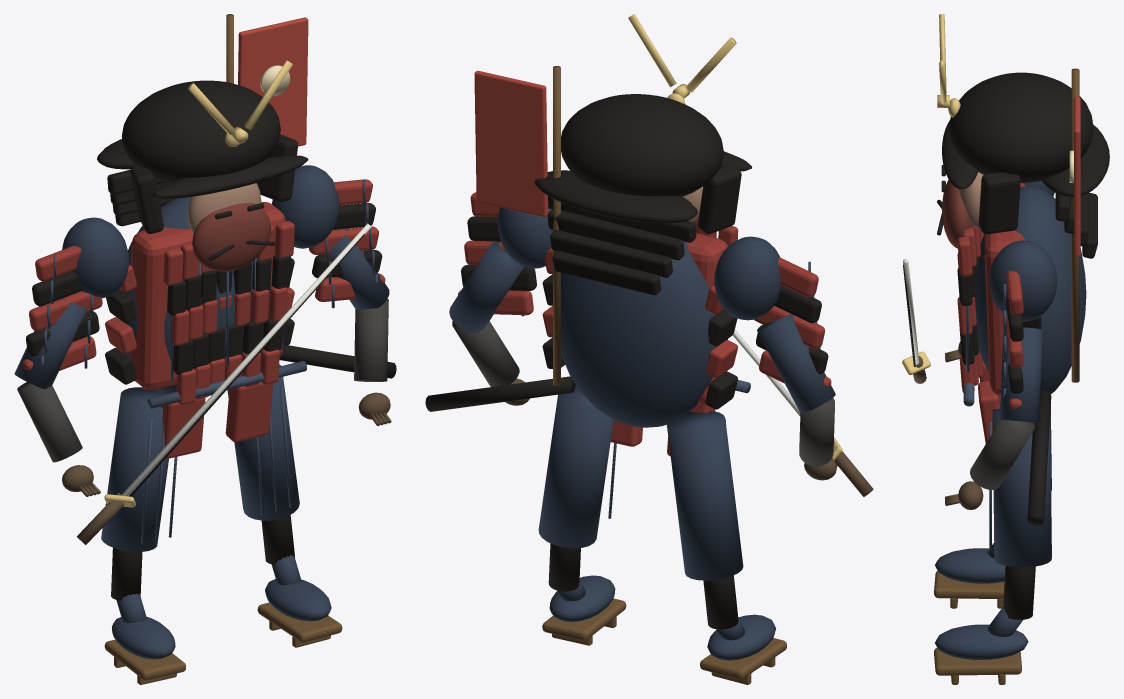
The model's file is samurai_character_v5.glb.
The picture shows the model from 3 angles, left to right: view 1: azimuth 30°, elevation 25°; view 2: azimuth 150°, elevation 25°; view 3: azimuth 270°, elevation 25°; orthographic projection. The views are drawn at different scales.
Parts seen in each view (by area): view 1: kabuto_helmet_bowl, left_hakama_outer_fold, do_cuirass_core, small_back_sashimono_cloth, right_hakama_outer_fold, mempo_cheek_mask, left_rounded_shoulder_undercloth, right_rounded_shoulder_undercloth, left_forearm_kote, helmet_front_brim, right_forearm_kote, left_upper_arm_cloth (+48 smaller); view 2: cloth_torso_underlayer, kabuto_helmet_bowl, left_hakama_outer_fold, small_back_sashimono_cloth, right_hakama_outer_fold, left_rounded_shoulder_undercloth, helmet_rear_flare, left_upper_arm_cloth, right_upper_arm_cloth, shikoro_neck_guard_1, shikoro_neck_guard_2, right_rounded_shoulder_undercloth (+24 smaller); view 3: kabuto_helmet_bowl, cloth_torso_underlayer, right_hakama_outer_fold, right_rounded_shoulder_undercloth, right_upper_arm_cloth, right_forearm_kote, right_tabi_sock, right_fukigaeshi_flare, do_cuirass_core, scabbard_at_hip, left_tabi_sock, helmet_rear_flare (+25 smaller).
Part boxes in pixels (box(x1,y1,x2,y2)): kabuto_helmet_bowl: box(121, 80, 280, 182); left_hakama_outer_fold: box(101, 387, 168, 551); do_cuirass_core: box(129, 202, 285, 390); small_back_sashimono_cloth: box(238, 17, 308, 146); right_hakama_outer_fold: box(227, 364, 299, 520); mempo_cheek_mask: box(192, 202, 271, 271); left_rounded_shoulder_undercloth: box(62, 217, 129, 298); right_rounded_shoulder_undercloth: box(272, 165, 339, 248); left_forearm_kote: box(17, 382, 82, 462); helmet_front_brim: box(153, 155, 308, 198); right_forearm_kote: box(354, 299, 388, 381); left_upper_arm_cloth: box(14, 298, 86, 389); cloth_torso_underlayer: box(561, 241, 717, 427); kabuto_helmet_bowl: box(561, 94, 723, 196); left_hakama_outer_fold: box(666, 411, 743, 580); small_back_sashimono_cloth: box(474, 70, 548, 217); right_hakama_outer_fold: box(538, 384, 613, 548); left_rounded_shoulder_undercloth: box(714, 236, 782, 320); helmet_rear_flare: box(534, 170, 697, 223); left_upper_arm_cloth: box(757, 313, 835, 413); right_upper_arm_cloth: box(449, 241, 524, 332); shikoro_neck_guard_1: box(547, 209, 684, 260); shikoro_neck_guard_2: box(550, 230, 672, 277); right_rounded_shoulder_undercloth: box(497, 207, 552, 268); kabuto_helmet_bowl: box(949, 72, 1093, 182); cloth_torso_underlayer: box(975, 186, 1086, 393); right_hakama_outer_fold: box(992, 404, 1051, 567); right_rounded_shoulder_undercloth: box(989, 240, 1057, 321); right_upper_arm_cloth: box(1000, 327, 1042, 422); right_forearm_kote: box(970, 420, 1034, 489); right_tabi_sock: box(935, 624, 1028, 659); right_fukigaeshi_flare: box(978, 172, 1020, 234); do_cuirass_core: box(984, 183, 1025, 395); scabbard_at_hip: box(1027, 390, 1051, 525); left_tabi_sock: box(934, 548, 1005, 583); helmet_rear_flare: box(1042, 124, 1109, 196).
Size of the model in its own units: 1.25 by 1.84 by 0.5752.
